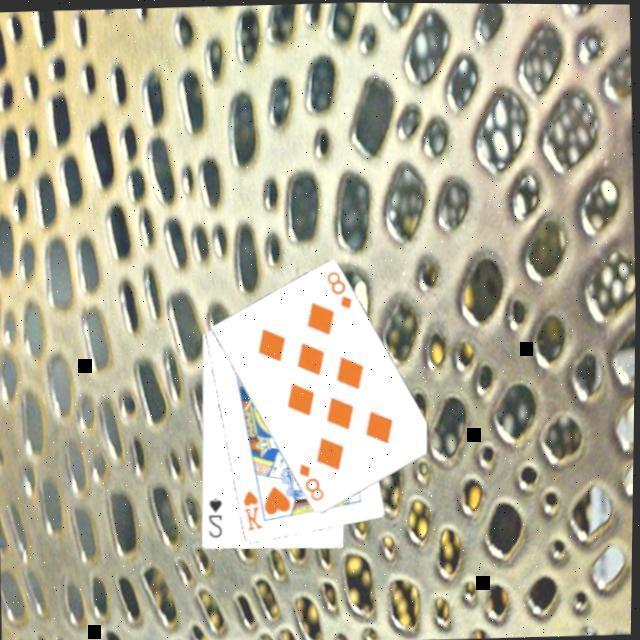2S: (206, 494, 229, 542)
8D: (296, 460, 332, 505), (324, 268, 358, 312)
KH: (241, 486, 269, 534)
